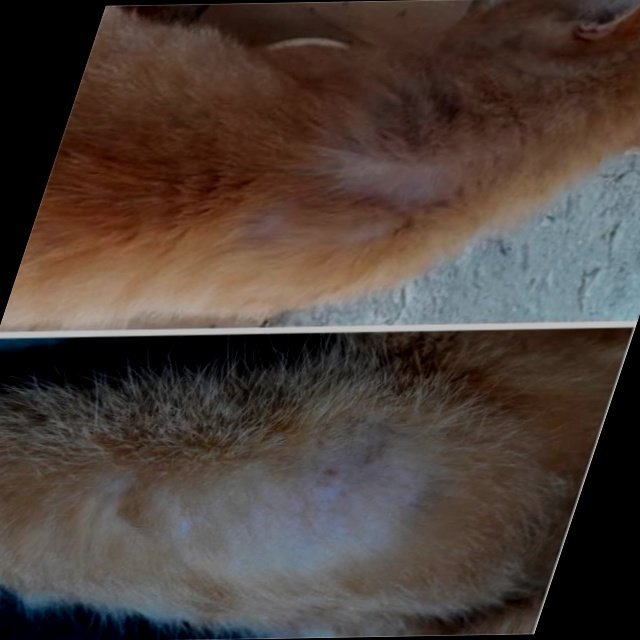hairloss: (165, 453, 424, 564), (330, 167, 452, 210), (238, 219, 385, 241)
